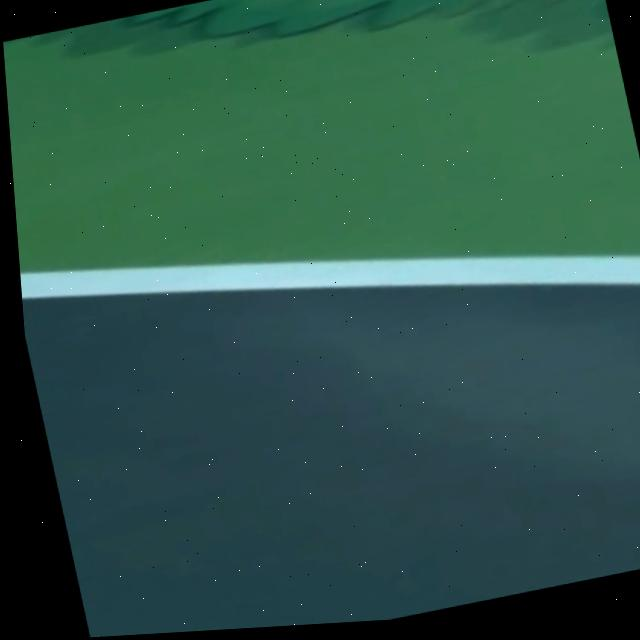right: (20, 256, 640, 300)
